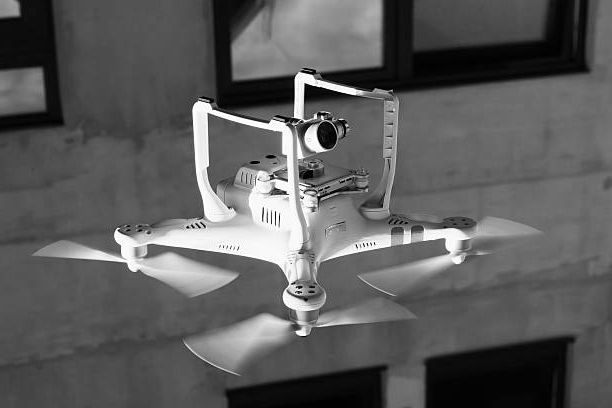Drone: (30, 63, 545, 381)
